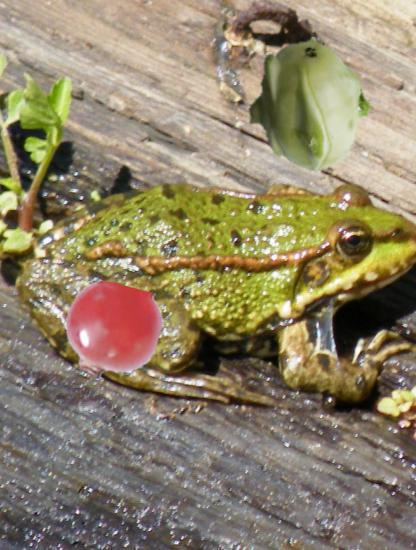Kohlrabi: (243, 37, 379, 173)
Redcurrant: (63, 284, 162, 383)
